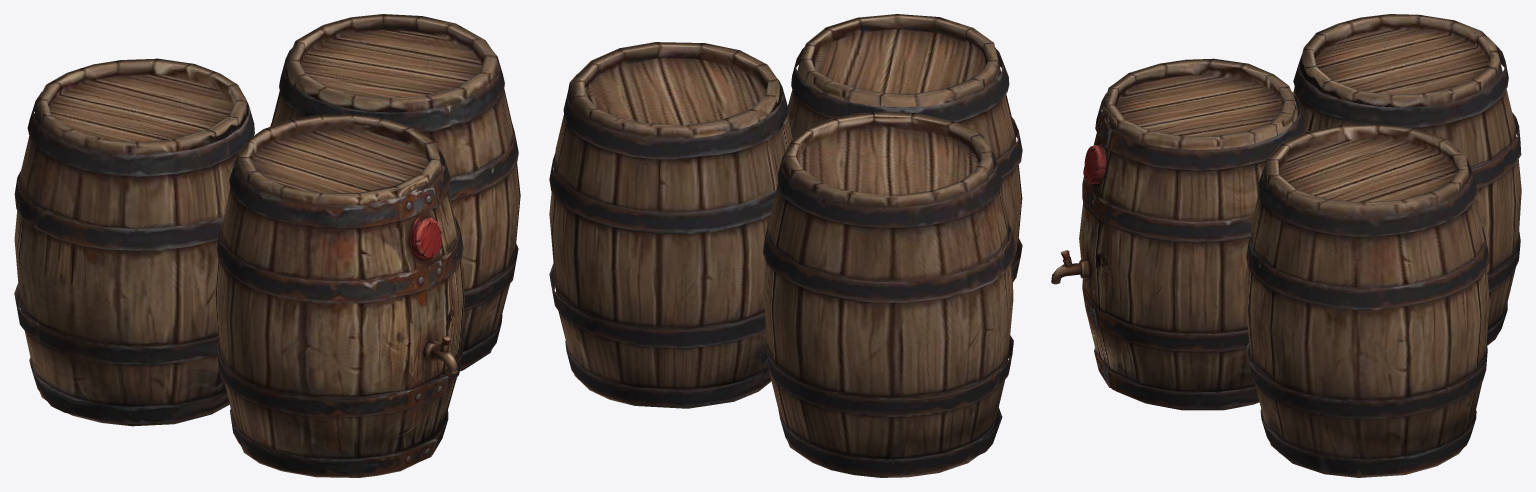
Rendered from barrel.glb.
3 views of the same model, side by side, from view 1: azimuth 30°, elevation 25°; view 2: azimuth 150°, elevation 25°; view 3: azimuth 270°, elevation 25° (orthographic). The views are drawn at different scales.
Size of the model in its own units: 1.7 by 1 by 1.58.
Materials: 1 (1 with a texture image).
